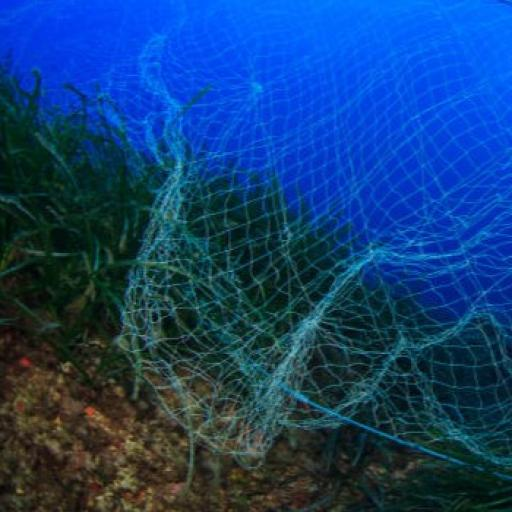net: (85, 2, 512, 470)
